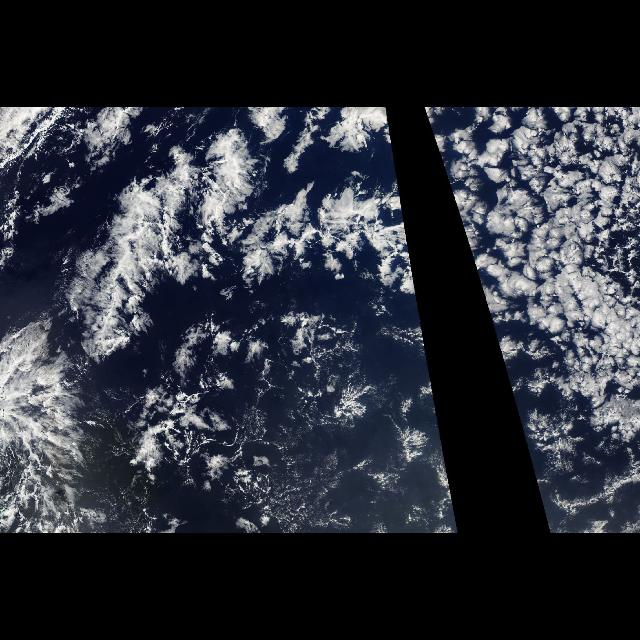Flower: (150, 112, 446, 500), (424, 108, 640, 462)
Gravel: (123, 349, 423, 533)
